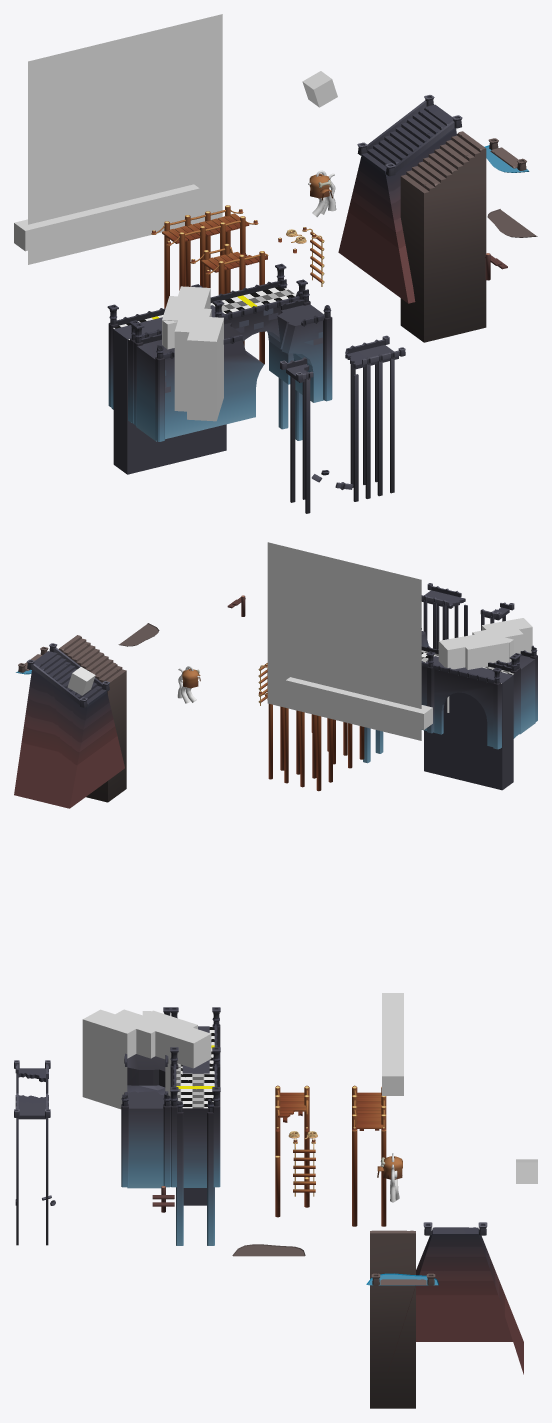
Rendered from Bridge.fbx.
The picture shows the model from 3 angles, top to bottom: view 1: azimuth 30°, elevation 25°; view 2: azimuth 150°, elevation 25°; view 3: azimuth 270°, elevation 25°; orthographic projection. The views are drawn at different scales.
Visible parts, largest first — view 1: Blocker, Stair, Bridge_Broken_S6, S6_Shortcut_Stair, Bridge_Broken_S6.001, Cube.005, Bridge_S6, Bridge_S6.002, Cube.009, WoodBridge, WoodBridge_Broken, Bridge_Broken_S6.003 (+2 smaller); view 2: Blocker, S6_Shortcut_Stair, Bridge_S6.002, Bridge_S6, Cube.005, Stair, Cube.009, WoodBridge, Bridge_Broken_S6.001, Bridge_Broken_S6, WoodBridge_Broken, Cube.008 (+3 smaller); view 3: S6_Shortcut_Stair, Cube.005, Stair, Bridge_Broken_S6, Bridge_S6, WoodBridge, Cube.009, Bridge_Broken_S6.001, Bridge_Broken_S6.003, WoodBridge_Broken, Stair_Ground.001, Bridge_S6.002 (+1 smaller).
Boxes of the visible parts, box(x1,y1,x2,y2) form: Blocker: box(28, 14, 222, 264); Stair: box(400, 131, 486, 342); Bridge_Broken_S6: box(132, 289, 332, 441); S6_Shortcut_Stair: box(338, 95, 462, 303); Bridge_Broken_S6.001: box(280, 335, 405, 513); Cube.005: box(162, 286, 223, 421); Bridge_S6: box(107, 263, 307, 423); Bridge_S6.002: box(113, 305, 226, 474); Cube.009: box(14, 184, 199, 251); WoodBridge: box(151, 205, 258, 308); WoodBridge_Broken: box(190, 237, 296, 364); Bridge_Broken_S6.003: box(278, 279, 302, 440); Blocker: box(267, 542, 421, 740); S6_Shortcut_Stair: box(14, 643, 124, 808); Bridge_S6.002: box(424, 656, 513, 790); Bridge_S6: box(421, 639, 518, 749); Cube.005: box(438, 618, 532, 712); Stair: box(59, 635, 126, 802); Cube.009: box(285, 677, 432, 729); WoodBridge: box(258, 691, 332, 791); Bridge_Broken_S6.001: box(421, 583, 514, 649); Bridge_Broken_S6: box(421, 628, 537, 734); WoodBridge_Broken: box(311, 714, 364, 768); Cube.008: box(67, 667, 95, 695); S6_Shortcut_Stair: box(388, 1222, 523, 1374); Cube.005: box(82, 1009, 211, 1109); Stair: box(370, 1230, 415, 1408); Bridge_Broken_S6: box(121, 1007, 170, 1188); Bridge_S6: box(170, 1007, 220, 1187); WoodBridge: box(352, 1085, 386, 1226); Cube.009: box(382, 993, 403, 1095); Bridge_Broken_S6.001: box(14, 1060, 55, 1245); Bridge_Broken_S6.003: box(176, 1099, 214, 1245); WoodBridge_Broken: box(275, 1085, 309, 1217); Stair_Ground.001: box(232, 1244, 305, 1256); Bridge_S6.002: box(182, 1026, 209, 1205).
Bounding box in the file's own units: 51.38 × 36 × 47.74.
